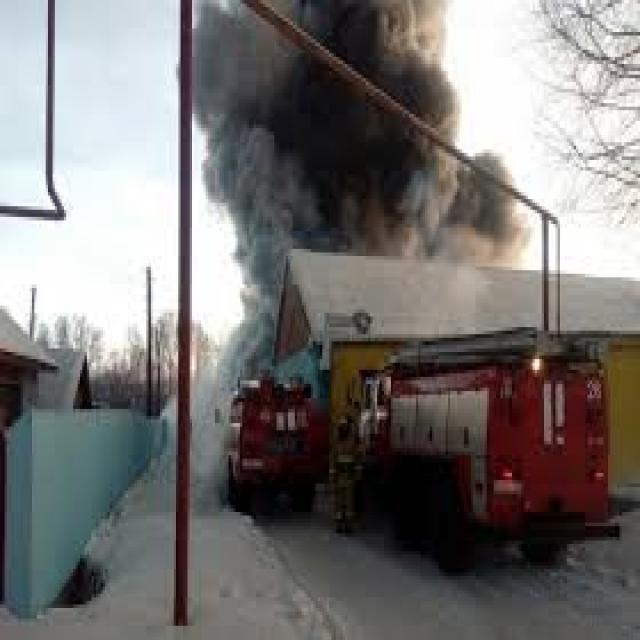Smoke: (180, 4, 542, 278)
